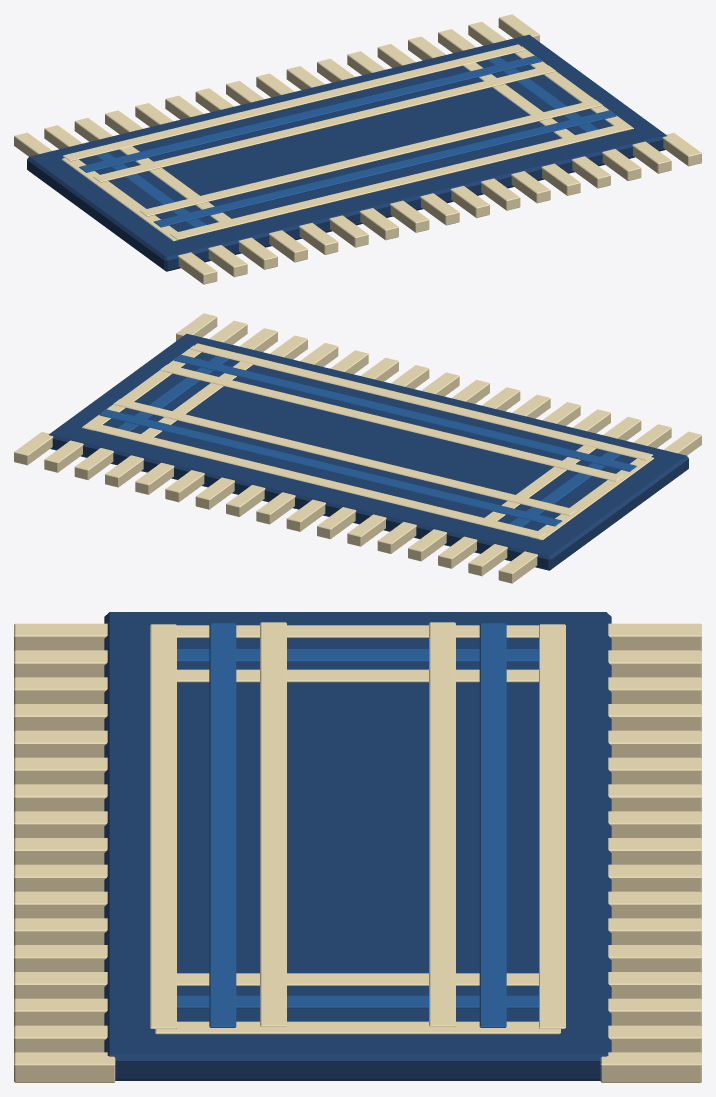
Rendered from entry_mat.glb.
3 renders of one model, top to bottom at view 1: azimuth 30°, elevation 25°; view 2: azimuth 150°, elevation 25°; view 3: azimuth 270°, elevation 25°, orthographic. The views are drawn at different scales.
Visible parts, largest first — view 1: entry_mat__body__navy, entry_mat__body__linen, entry_mat__body__azure; view 2: entry_mat__body__navy, entry_mat__body__linen, entry_mat__body__azure; view 3: entry_mat__body__navy, entry_mat__body__linen, entry_mat__body__azure.
Part boxes in pixels (box(x1,y1,x2,y2)): entry_mat__body__navy: box(27, 34, 666, 271); entry_mat__body__linen: box(14, 14, 701, 284); entry_mat__body__azure: box(79, 55, 616, 227); entry_mat__body__navy: box(49, 333, 688, 570); entry_mat__body__linen: box(14, 313, 701, 583); entry_mat__body__azure: box(99, 354, 636, 526); entry_mat__body__navy: box(104, 612, 611, 1080); entry_mat__body__linen: box(14, 622, 701, 1082); entry_mat__body__azure: box(177, 623, 538, 1027).
Bounding box in the file's own units: 1.27 × 0.0476 × 0.814.
